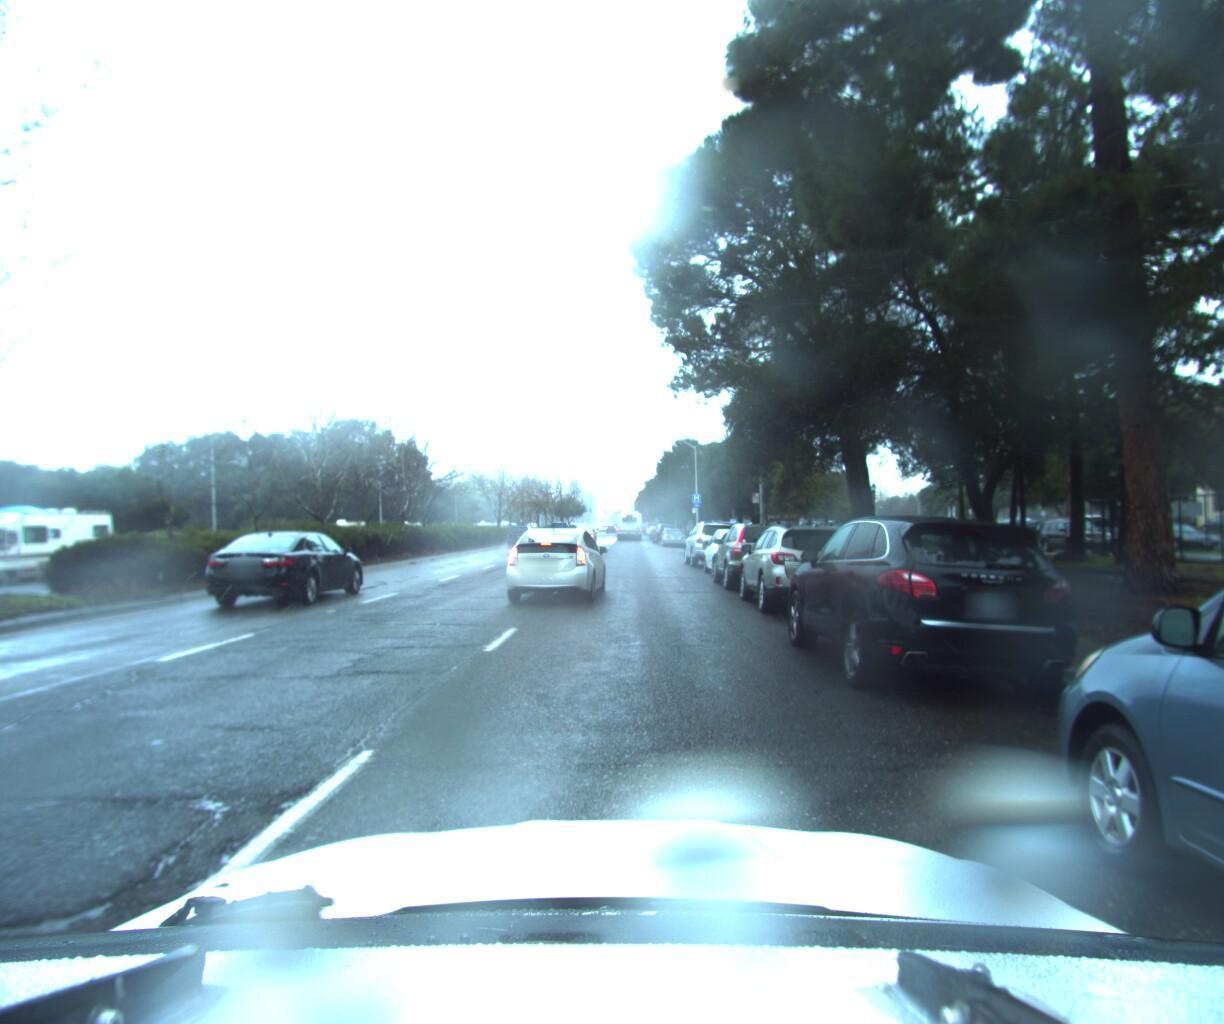bus: (617, 506, 646, 539)
car: (774, 510, 1110, 711), (194, 525, 376, 614), (732, 517, 881, 620), (501, 520, 610, 605), (710, 521, 811, 593), (699, 526, 766, 576), (682, 518, 744, 568), (507, 527, 540, 551), (658, 527, 685, 546)
